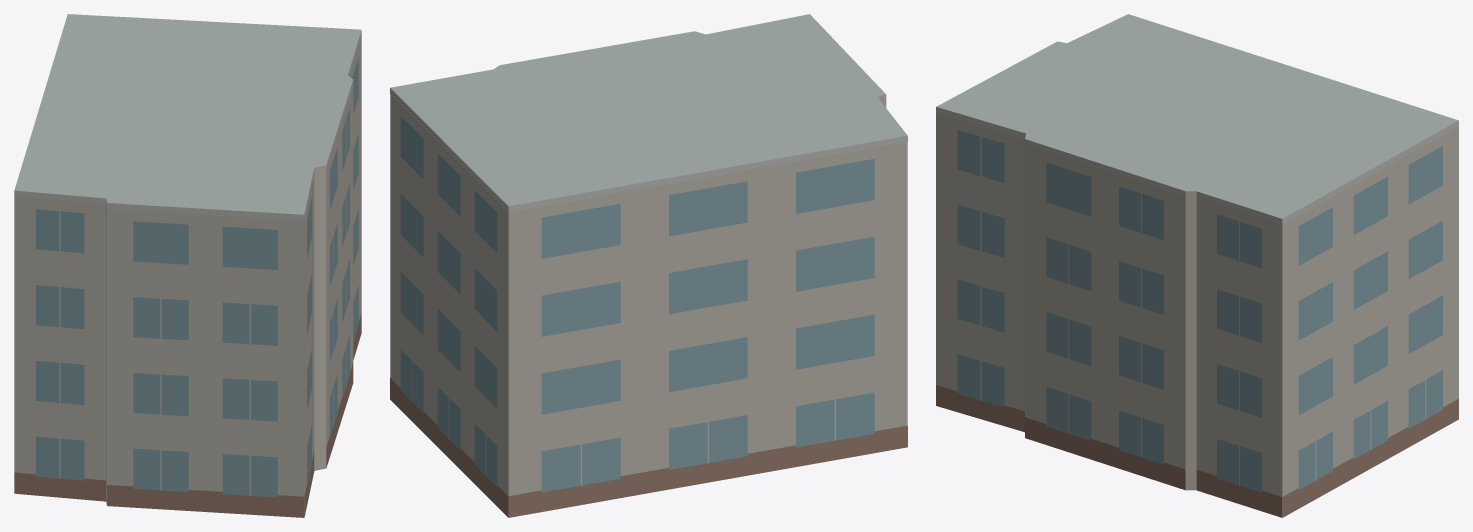
Rendered from survey-upis-32588237.glb.
The picture shows the model from 3 angles, left to right: view 1: azimuth 30°, elevation 25°; view 2: azimuth 150°, elevation 25°; view 3: azimuth 270°, elevation 25°; orthographic projection. The views are drawn at different scales.
Parts seen in each view (by area): view 1: survey-upis-32588237.tmp; view 2: survey-upis-32588237.tmp; view 3: survey-upis-32588237.tmp.
Part boxes in pixels (<box>): survey-upis-32588237.tmp: <box>14,14,361,517</box>; survey-upis-32588237.tmp: <box>390,14,907,517</box>; survey-upis-32588237.tmp: <box>936,14,1458,517</box>.
Bounding box in the file's own units: 17.93 × 12.2 × 19.34.
